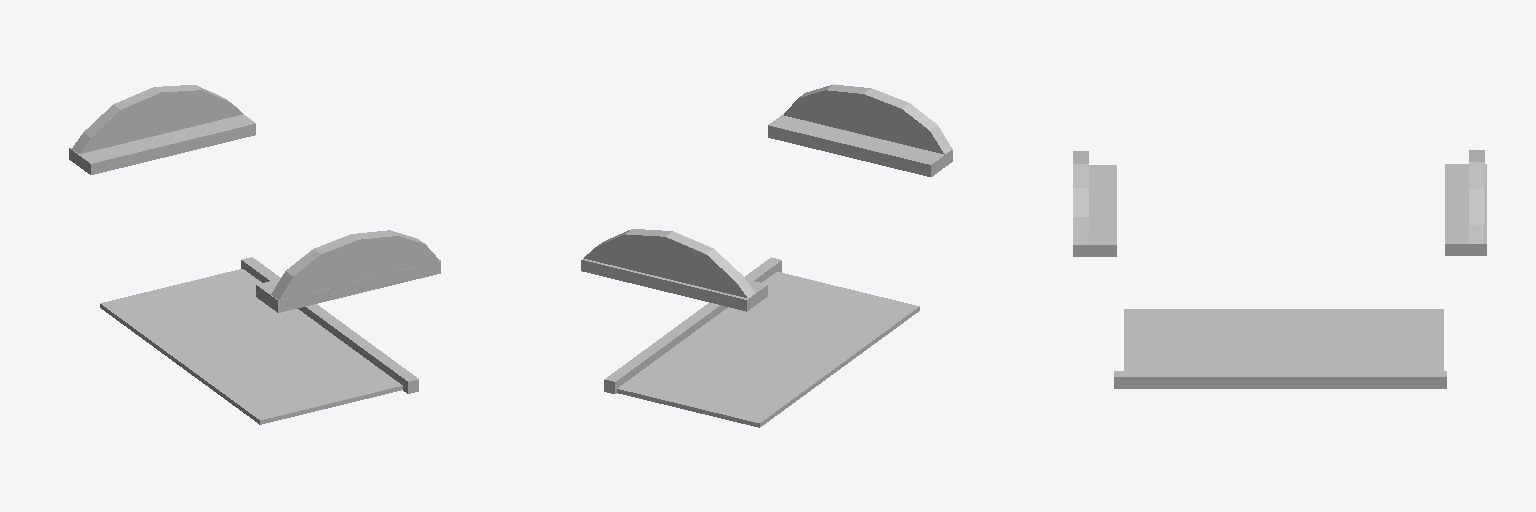
The model's file is wallPiecesLP.obj.
The picture shows the model from 3 angles: view 1: azimuth 30°, elevation 25°; view 2: azimuth 150°, elevation 25°; view 3: azimuth 270°, elevation 25°; orthographic projection.
Parts seen in each view (by area): view 1: pCube11, pCylinder16, pCylinder17, pCube97, pCube51, pCube96; view 2: pCube11, pCylinder16, pCylinder17, pCube96, pCube51, pCube97; view 3: pCube11, pCube51, pCube96, pCube97, pCylinder16, pCylinder17.
Part boxes in pixels (x1,y1,x2,y2): pCube11: (100,269,402,424); pCylinder16: (271,230,439,300); pCylinder17: (72,85,242,153); pCube97: (69,114,255,174); pCube51: (241,257,418,393); pCube96: (256,260,440,312); pCube11: (617,272,919,427); pCylinder16: (784,84,951,154); pCylinder17: (584,229,754,297); pCube96: (768,114,952,176); pCube51: (604,257,781,393); pCube97: (581,258,767,311); pCube11: (1124,309,1443,370); pCube51: (1114,371,1446,388); pCube96: (1073,165,1116,256); pCube97: (1445,164,1486,255); pCylinder16: (1073,151,1088,244); pCylinder17: (1469,150,1484,243).
Bounding box in the file's own units: 8.38 × 9.1 × 18.18.